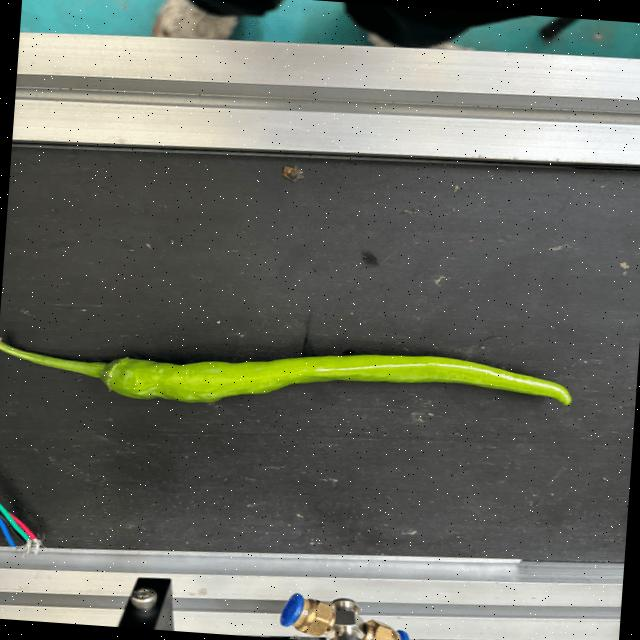chili: (95, 352, 573, 408)
